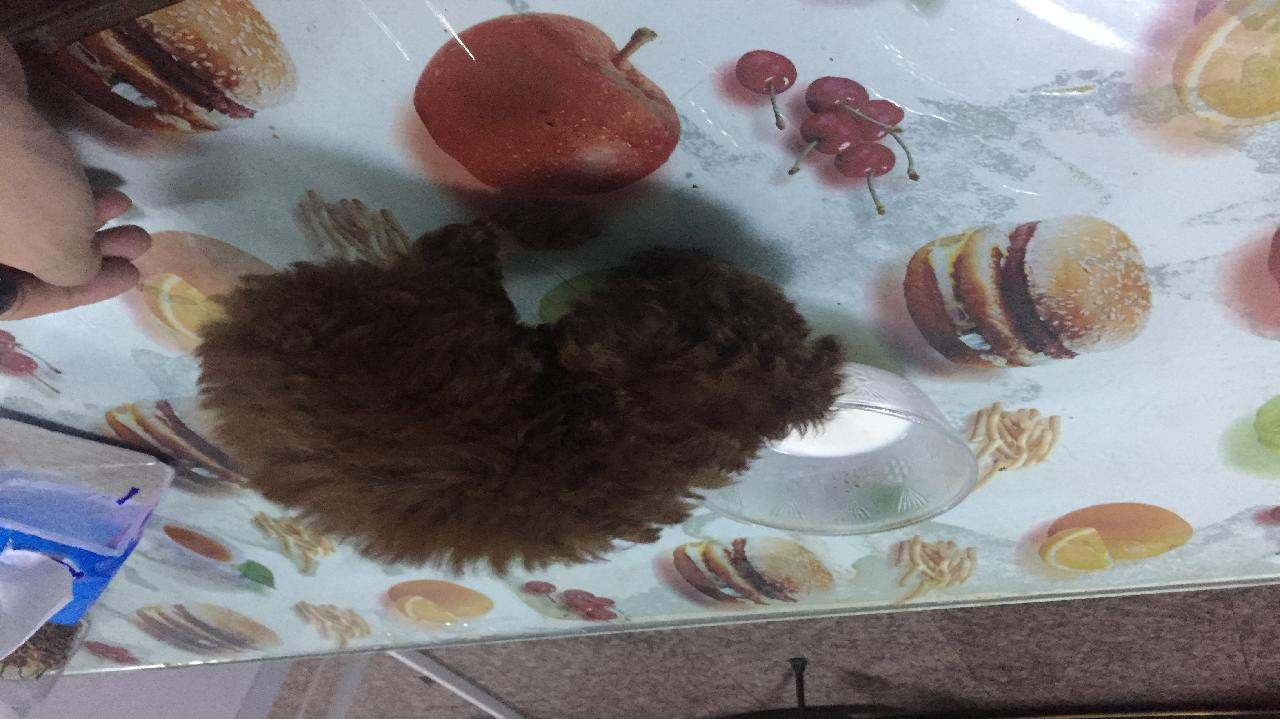coin: (184, 211, 896, 597)
